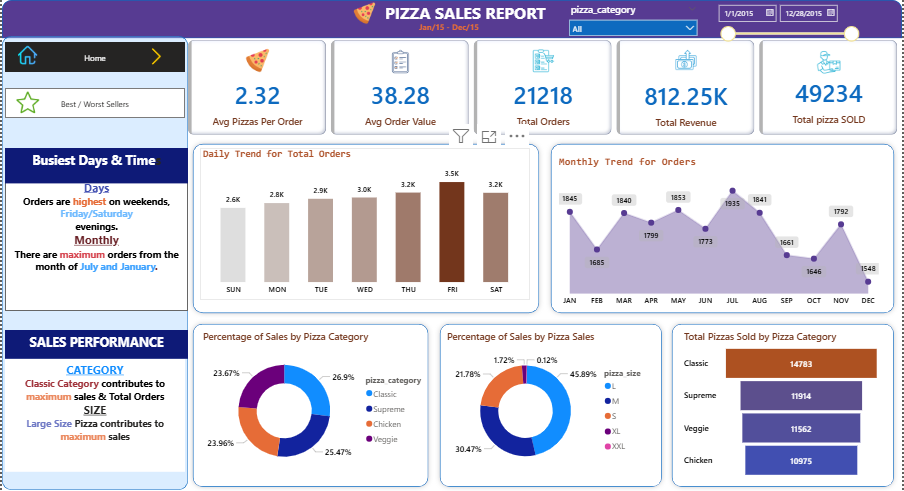

The page's visual inventory and layout, read from the dashboard file:
{"tool":"powerbi","page":{"name":"Home","canvas":[1500,820],"ordinal":0},"visuals":[{"type":"shape","box":[310.3,232.8,593.1,298.3],"z":0},{"type":"cardVisual","fields":{"Data":["pizza_sales.Avg Pizzas Per Order","pizza_sales.Avg Order Value","pizza_sales.Total Orders","pizza_sales.Total Revenue","pizza_sales.Total_pizza_SOLD"]},"box":[305.2,63.8,1194.8,169],"z":1000},{"type":"shape","box":[0,1.7,1500,63.8],"z":2000},{"type":"textbox","box":[633.9,0,289.4,47.2],"z":3000},{"type":"textbox","box":[690,32.5,190,30],"z":4000},{"type":"image","box":[382.4,0,445.1,47.1],"z":5000},{"type":"columnChart","title":" Daily Trend for Total Orders","fields":{"Category":["pizza_sales.Order Day"],"Y":["pizza_sales.Total Orders"]},"box":[329.3,248.3,550,253.4],"z":6000},{"type":"shape","box":[906.7,233.3,588.3,298.3],"z":7000},{"type":"areaChart","title":" Monthly Trend for Orders","fields":{"Category":["pizza_sales.Order Month"],"Y":["pizza_sales.Total Orders"]},"box":[923.3,260,543.3,260],"z":8000},{"type":"shape","box":[310.3,532.8,408.6,287.9],"z":9000},{"type":"shape","box":[722.4,532.8,386.2,287.9],"z":10000},{"type":"shape","box":[1108.6,532.8,386.2,287.9],"z":11000},{"type":"donutChart","title":"Percentage of Sales by Pizza Category","fields":{"Category":["pizza_sales.pizza_category"],"Y":["pizza_sales.Total Revenue"]},"box":[329.3,551.7,389.7,248.3],"z":12000},{"type":"donutChart","title":"Percentage of Sales by Pizza Sales","fields":{"Y":["pizza_sales.Total Revenue"],"Category":["pizza_sales.pizza_size"]},"box":[736.2,551.7,351.7,248.3],"z":13000},{"type":"shape","box":[0,61.7,310,756.7],"z":14000},{"type":"funnel","title":"Total Pizzas Sold by Pizza Category","fields":{"Category":["pizza_sales.pizza_category"],"Y":["pizza_sales.Total pizza SOLD"]},"box":[1131,551.7,336.2,251.7],"z":15000},{"type":"textbox","box":[5.2,551.7,305.2,48.3],"z":16000},{"type":"textbox","box":[5,295,305,225],"z":17000},{"type":"textbox","box":[5.2,248.3,305.2,58.6],"z":18000},{"type":"textbox","box":[5,600,300,188.3],"z":19000},{"type":"slicer","title":"Pizza Cateory","fields":{"Values":["pizza_sales.order_date"]},"box":[1181,0,256.9,72.4],"z":19001},{"type":"slicer","title":"Pizza Cateory","fields":{"Values":["pizza_sales.pizza_category"]},"box":[934.5,1.7,234.5,70.7],"z":19002},{"type":"pageNavigator","box":[5,71.7,300,50],"z":19003},{"type":"pageNavigator","box":[5,148.3,300,50],"z":19004},{"type":"image","box":[228.3,76.7,58.3,38.3],"z":19005},{"type":"image","box":[21.7,71.7,41.7,43.3],"z":19006},{"type":"image","box":[15,148.3,55,48.3],"z":19007}]}

Visuals, with their boxes in screenshot pixels (x1, y1, x2, y2), scaled from the page's 1500x820 canvas onto the 904x491 screenshot:
shape: x1=187 y1=139 x2=544 y2=318
cardVisual - pizza_sales.Avg Pizzas Per Order x pizza_sales.Avg Order Value: x1=184 y1=38 x2=903 y2=139
shape: x1=0 y1=1 x2=903 y2=39
textbox: x1=382 y1=0 x2=556 y2=28
textbox: x1=416 y1=19 x2=530 y2=37
image: x1=230 y1=0 x2=499 y2=28
" Daily Trend for Total Orders" columnChart: x1=198 y1=149 x2=530 y2=300
shape: x1=546 y1=140 x2=901 y2=318
" Monthly Trend for Orders" areaChart: x1=556 y1=156 x2=884 y2=311
shape: x1=187 y1=319 x2=433 y2=490
shape: x1=435 y1=319 x2=668 y2=490
shape: x1=668 y1=319 x2=901 y2=490
"Percentage of Sales by Pizza Category" donutChart: x1=198 y1=330 x2=433 y2=479
"Percentage of Sales by Pizza Sales" donutChart: x1=444 y1=330 x2=656 y2=479
shape: x1=0 y1=37 x2=187 y2=490
"Total Pizzas Sold by Pizza Category" funnel: x1=682 y1=330 x2=884 y2=481
textbox: x1=3 y1=330 x2=187 y2=359
textbox: x1=3 y1=177 x2=187 y2=311
textbox: x1=3 y1=149 x2=187 y2=184
textbox: x1=3 y1=359 x2=184 y2=472
"Pizza Cateory" slicer: x1=712 y1=0 x2=867 y2=43
"Pizza Cateory" slicer: x1=563 y1=1 x2=705 y2=43
pageNavigator: x1=3 y1=43 x2=184 y2=73
pageNavigator: x1=3 y1=89 x2=184 y2=119
image: x1=138 y1=46 x2=173 y2=69
image: x1=13 y1=43 x2=38 y2=69
image: x1=9 y1=89 x2=42 y2=118
